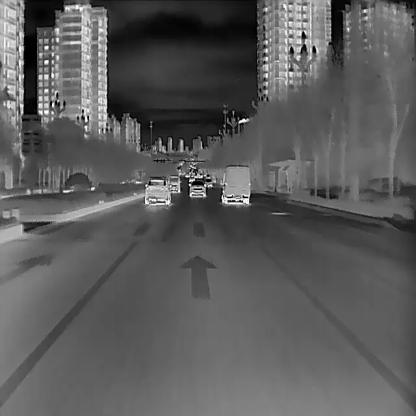car: (220, 164, 250, 204), (144, 177, 170, 206), (188, 180, 206, 198), (166, 175, 179, 193), (204, 177, 212, 187), (189, 175, 193, 182)
